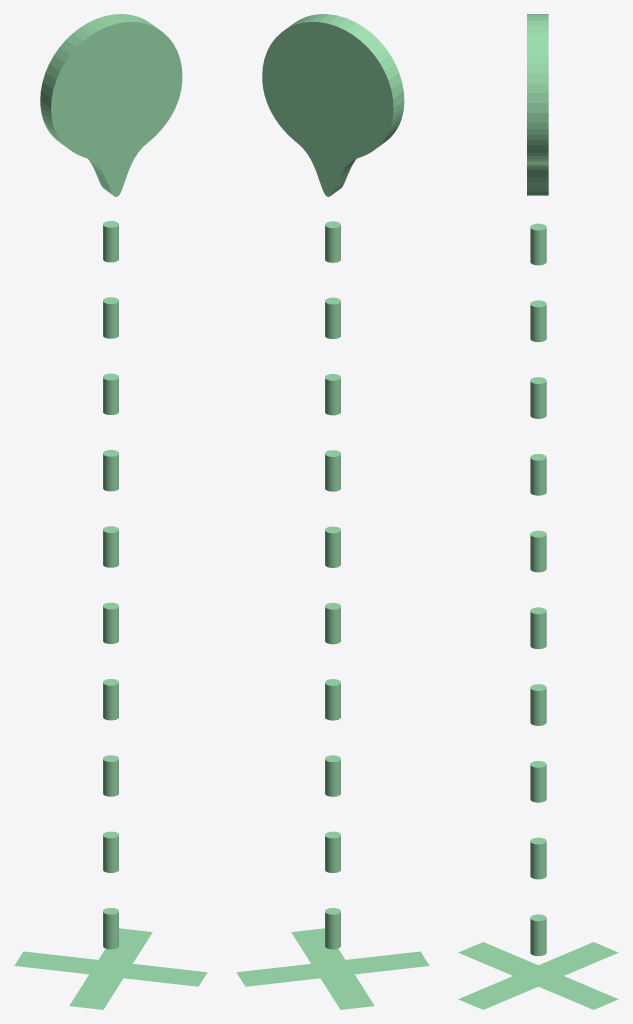
Rendered from Anchor.fbx.
The picture shows the model from 3 angles, left to right: view 1: azimuth 30°, elevation 25°; view 2: azimuth 150°, elevation 25°; view 3: azimuth 270°, elevation 25°; orthographic projection.
Visible parts, largest first — view 1: Plane; view 2: Plane; view 3: Plane.
Boxes of the visible parts, box(x1,y1,x2,y2) form: Plane: box(14, 14, 207, 1009); Plane: box(236, 14, 429, 1009); Plane: box(458, 14, 618, 1009).
Size of the model in its own units: 32.97 by 216 by 32.97.
